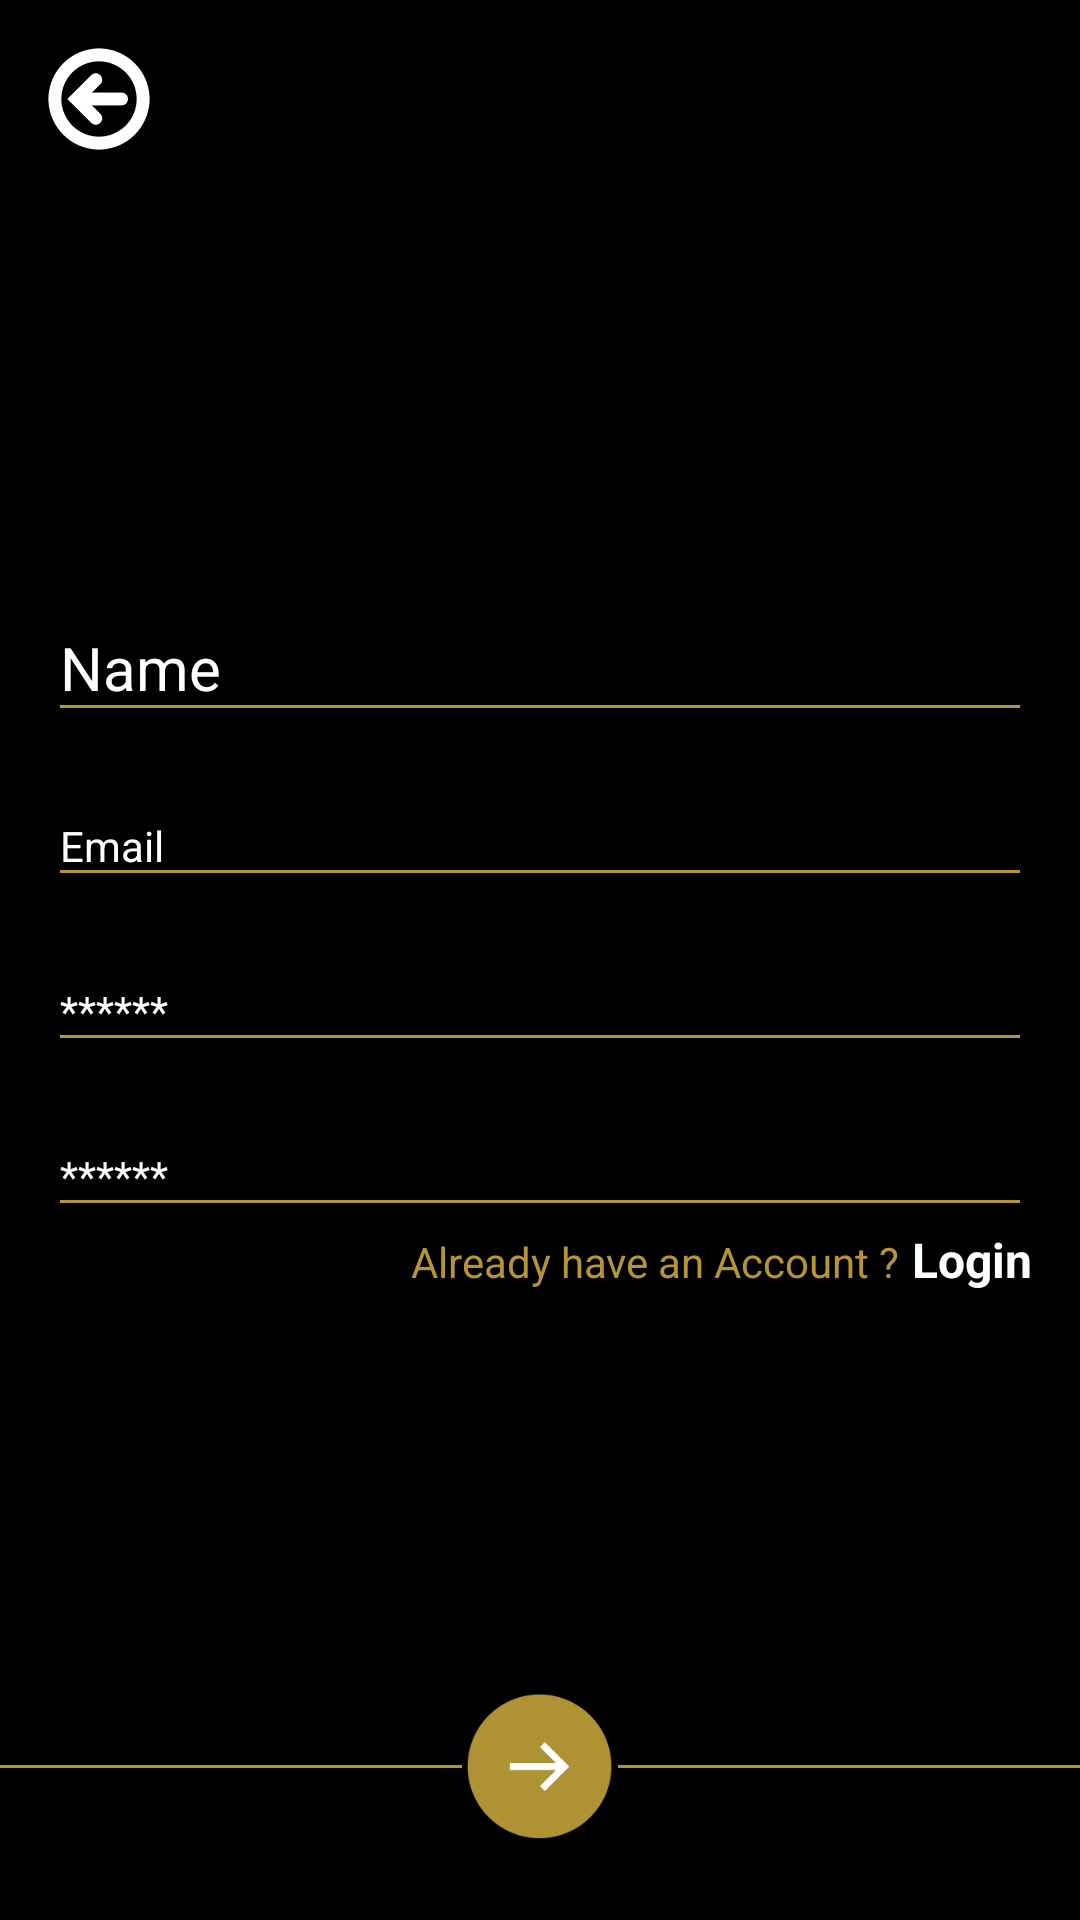

Named icons in this screenshot (1080 × 1920) and their centers, (x=x, y=y):
back: (x=99, y=99)
go nxt: (x=539, y=1766)
